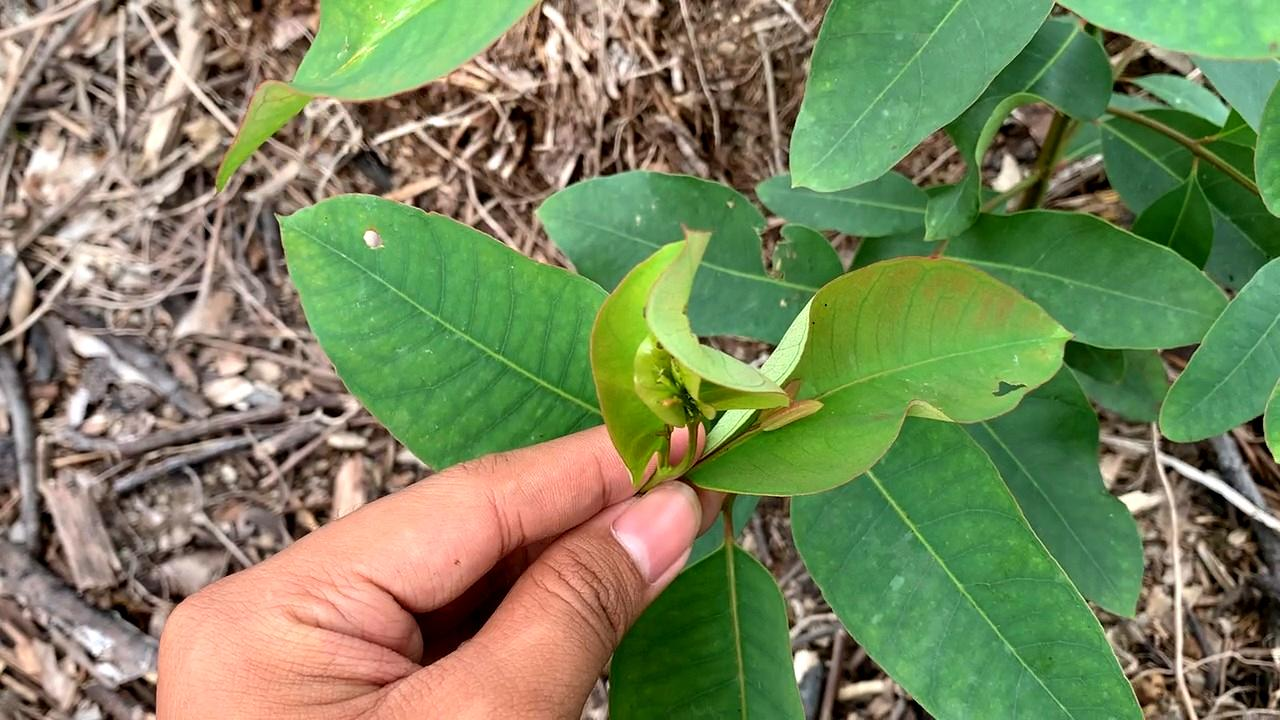Leaf Roller - Leaf: (579, 226, 786, 499)
